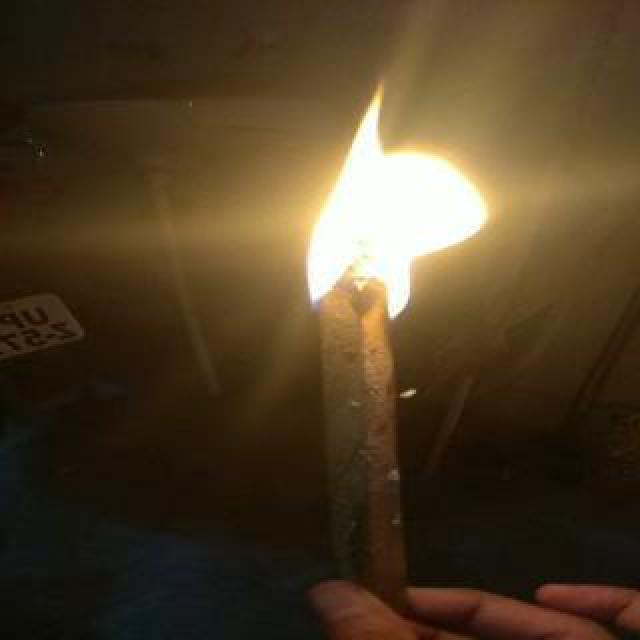Fire: (286, 70, 504, 320)
